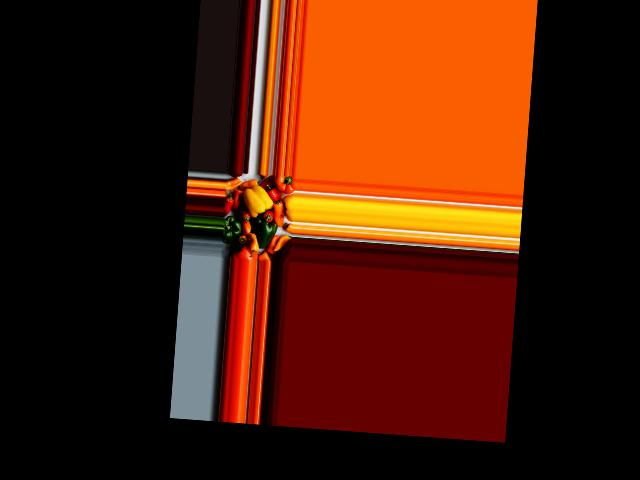bell_pepper: (223, 191, 236, 215)
